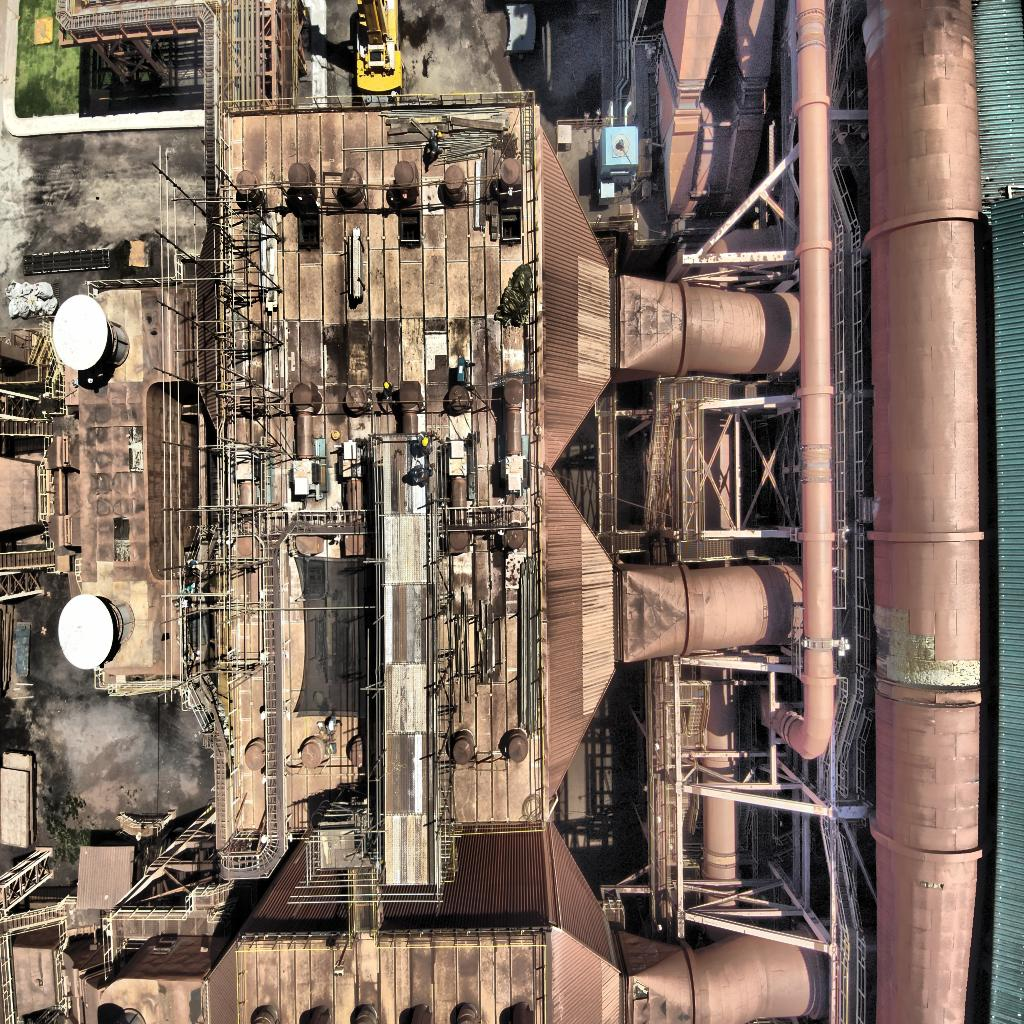Failures: (874, 662, 981, 690), (874, 637, 937, 660), (874, 604, 911, 636), (111, 514, 134, 565), (126, 425, 147, 474), (632, 976, 649, 1002), (920, 880, 945, 894)
